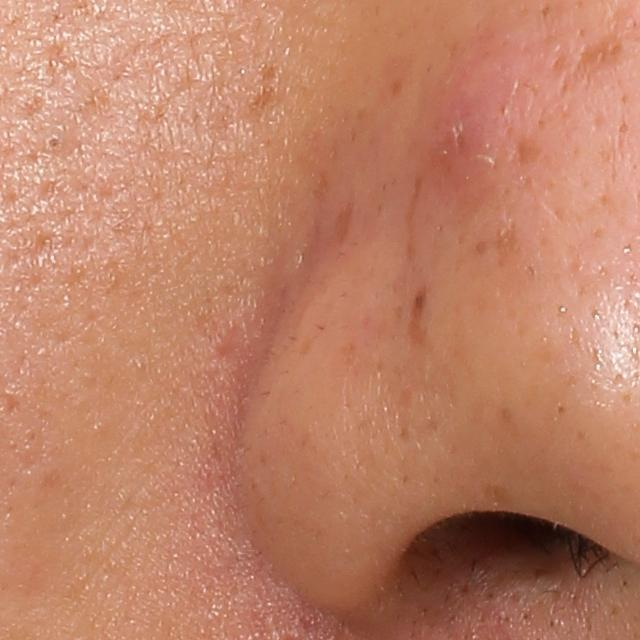melasma: (571, 27, 633, 82), (404, 286, 434, 352), (328, 188, 359, 249)
